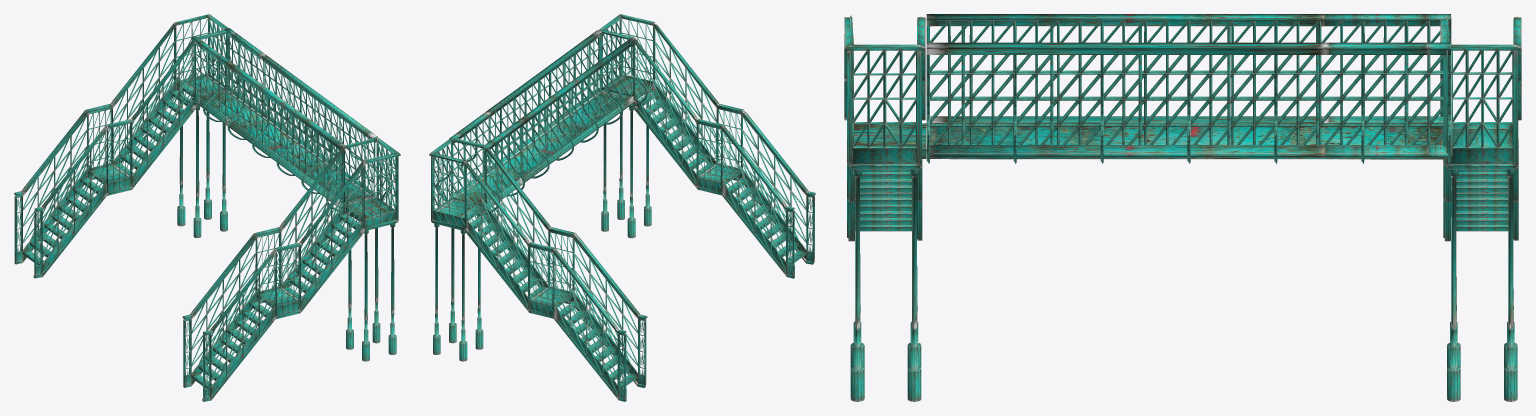
File: rrbridge2.fbx
3 renders of one model, left to right at view 1: azimuth 30°, elevation 25°; view 2: azimuth 150°, elevation 25°; view 3: azimuth 270°, elevation 25°, orthographic. The views are drawn at different scales.
Visible parts, largest first — view 1: Cube; view 2: Cube; view 3: Cube.
Part boxes in pixels (x1,y1,x2,y2): Cube: [14, 14, 400, 401]; Cube: [429, 14, 815, 401]; Cube: [844, 14, 1521, 401].
Size of the model in its own units: 377 by 348 by 598.
